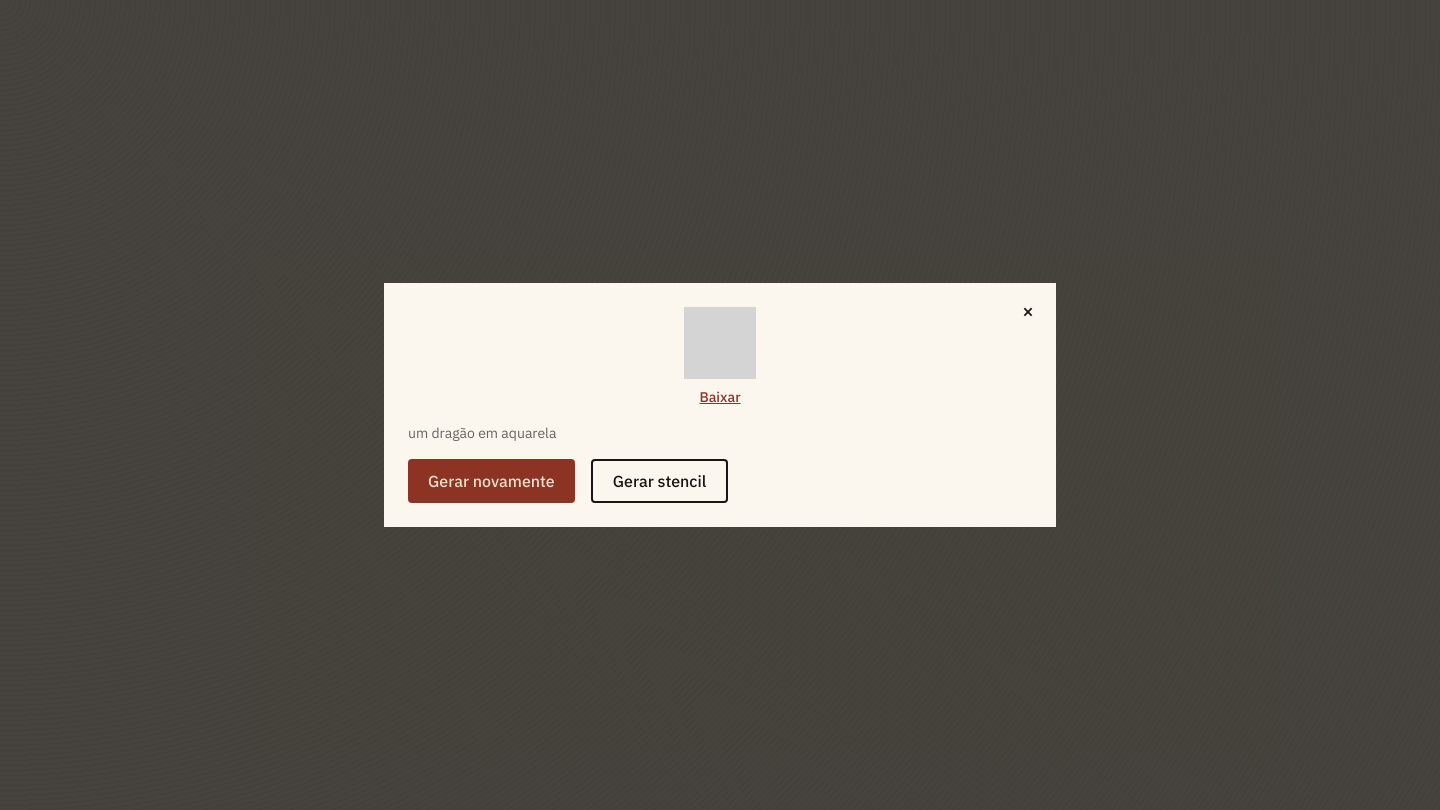
Test case: ImagemPopup › mostra erro do stencil sem fechar o popup quando gerarStencil falha
Click the button "Gerar stencil" at (660, 481), box [591,459,728,503]
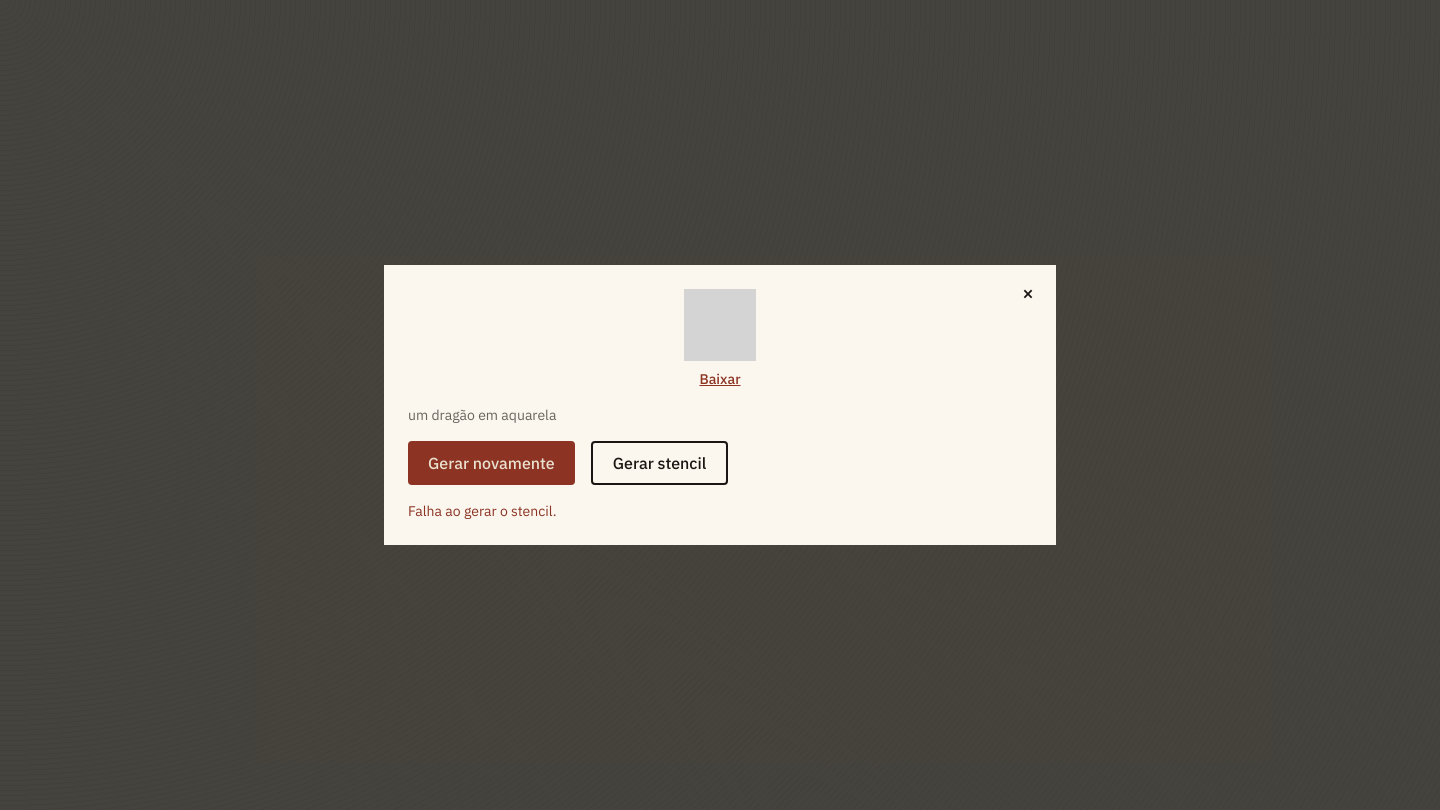
Check: the text "Falha ao gerar o stencil." is shown, box [408,502,557,520]
